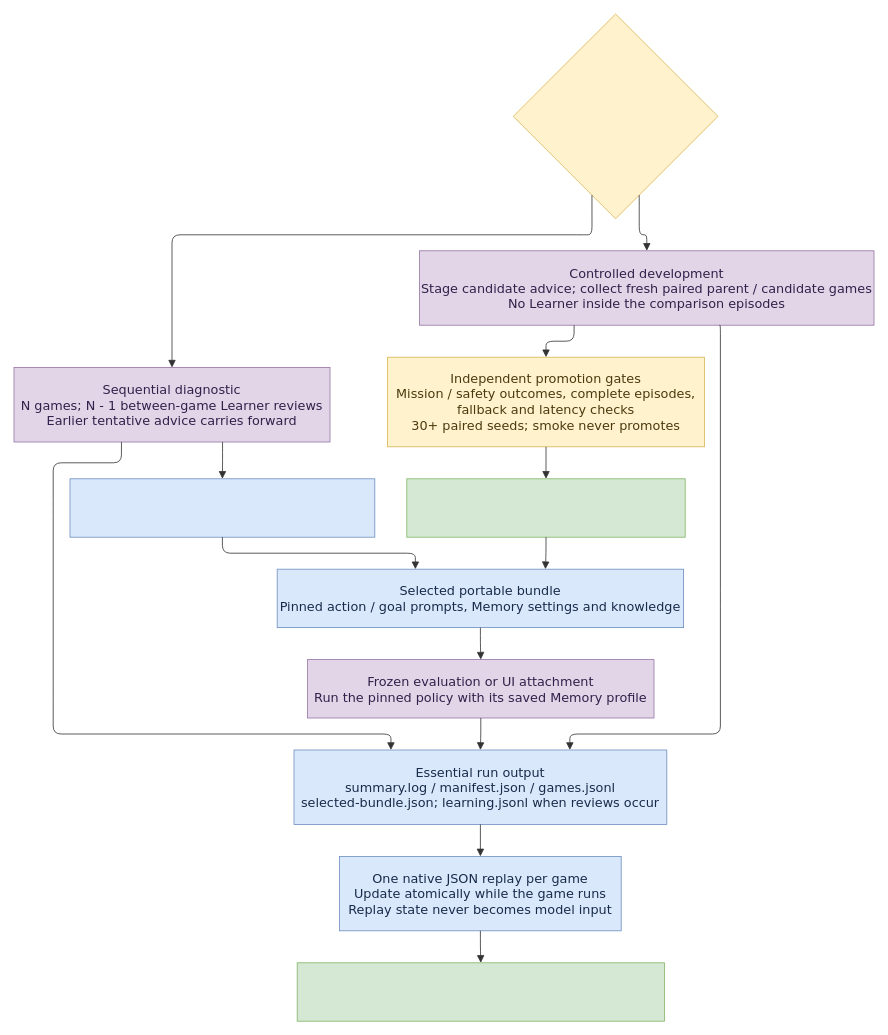
This 888x1035 diagram has some shape labels left out. The centre of each missing label's shape, as x and y in pixels:
Choose run workflow: the point at 615,116
Import replay in the UI Inspect the recorded prefix; reimport to see later turns: the point at 480,991
Publish candidate or retain parent Rejected advice stays out of the control: the point at 545,507
Retain selected initial policy Diagnostic knowledge reuse is not promotion: the point at 222,507
